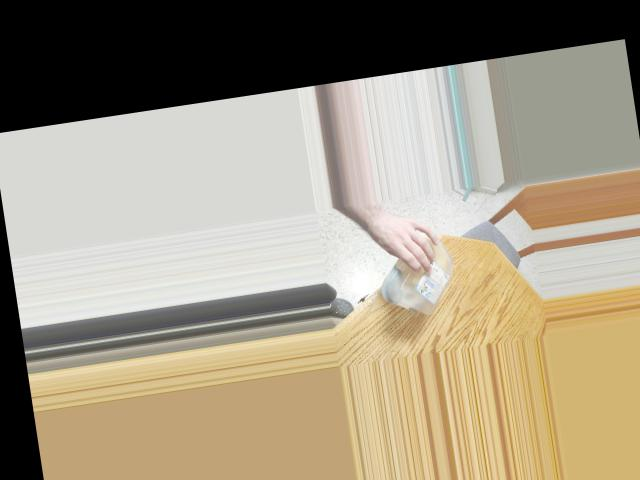cheese: (375, 217, 463, 322)
